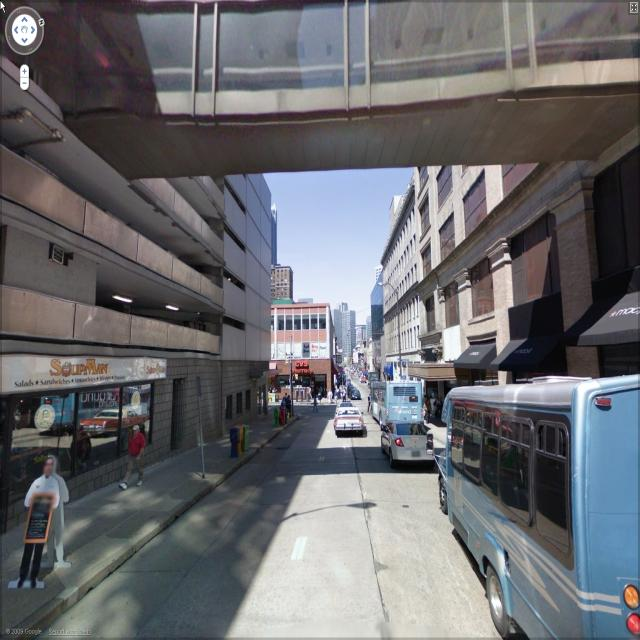b_1: (424, 160, 636, 400), (5, 174, 232, 395), (218, 173, 274, 419), (241, 308, 345, 414), (384, 205, 428, 412), (362, 260, 385, 374), (331, 300, 373, 362), (265, 267, 293, 306)
